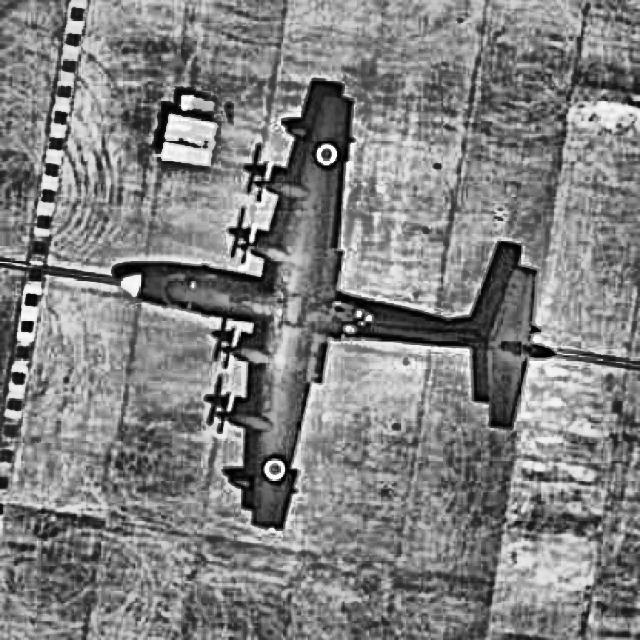US2: (118, 94, 558, 532)
